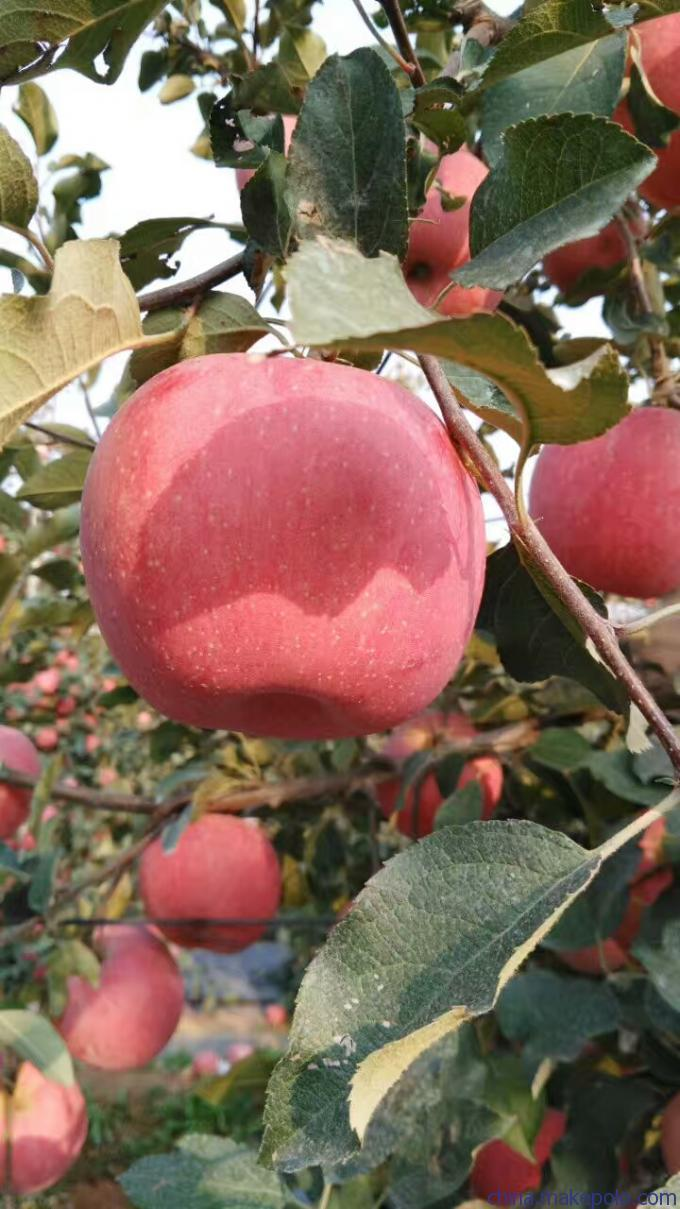apple: (76, 347, 487, 744), (520, 405, 680, 607), (136, 815, 281, 953), (399, 145, 509, 320), (64, 923, 184, 1072)
